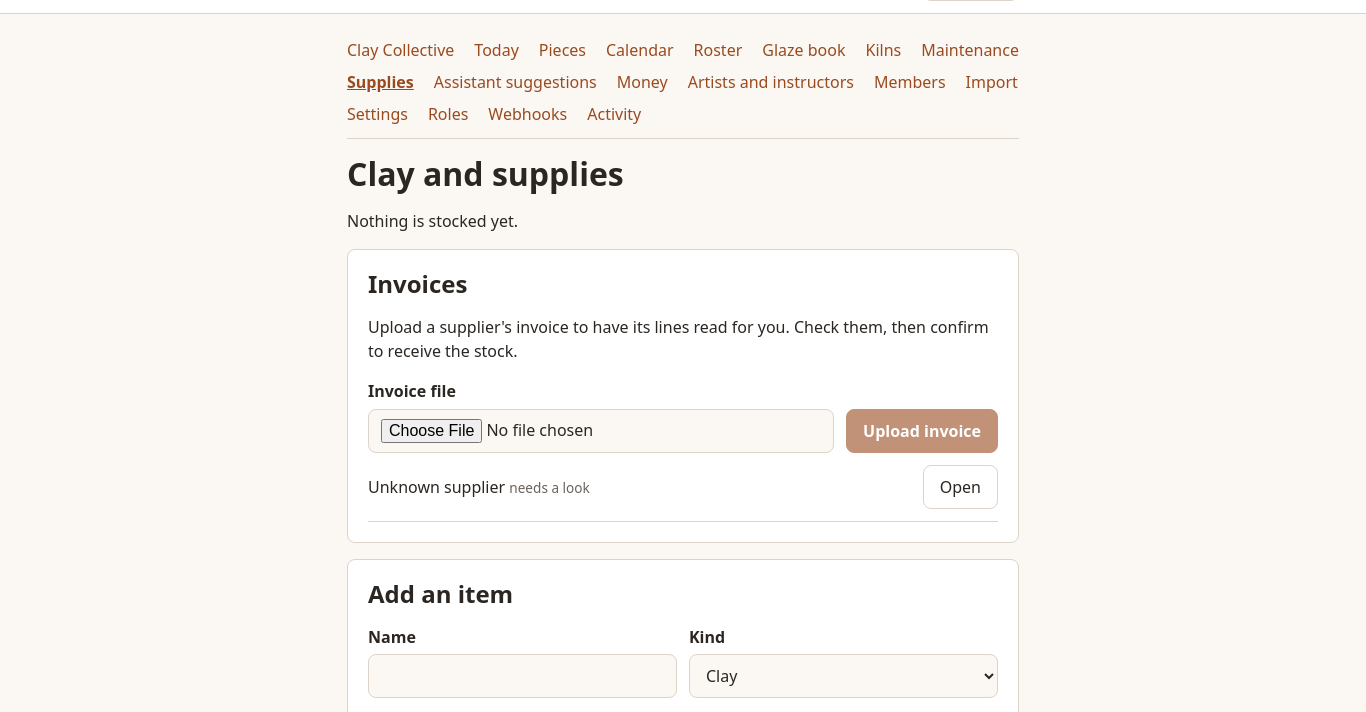
it: Supplies inbox › compares the readers, saying once why one did not run
The image size is (1366, 712).
Click the button "Open".
click(960, 487)  # box x1=923 y1=465 x2=998 y2=509
(page scrolled)
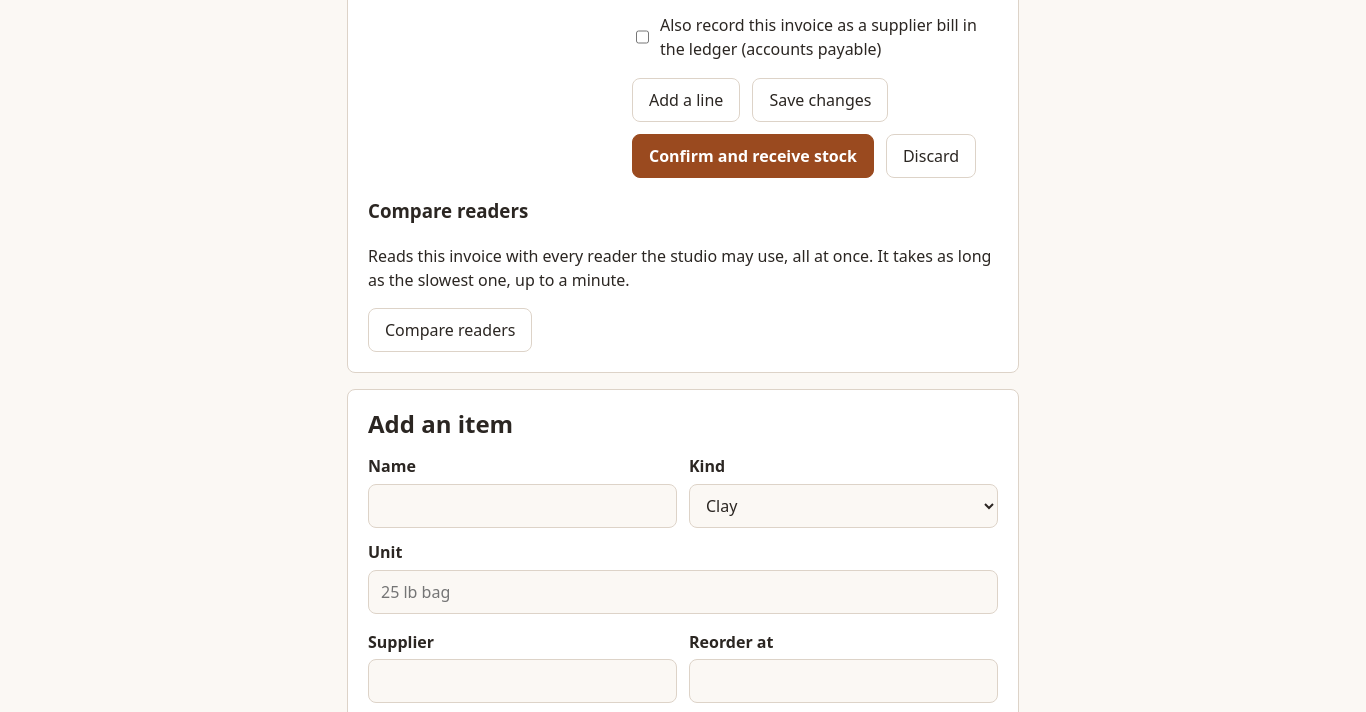
Click the button "Compare readers".
click(450, 330)  # box x1=368 y1=308 x2=532 y2=352
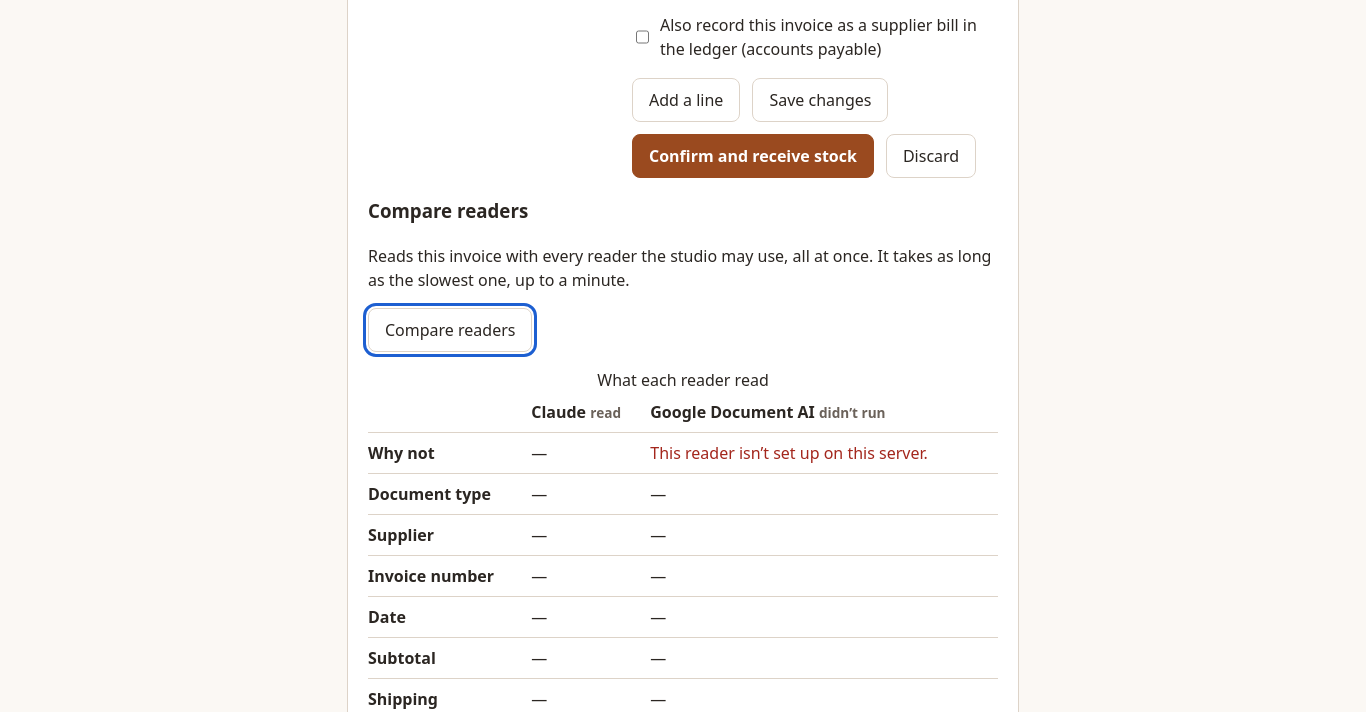
expect the text "This reader isn’t set up on this server." is shown once: met, box x1=650 y1=432 x2=998 y2=473
expect the text "didn’t run" is shown: met, box x1=819 y1=402 x2=886 y2=422
